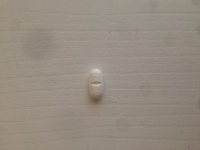Centik Buskopan: (87, 68, 105, 102)
